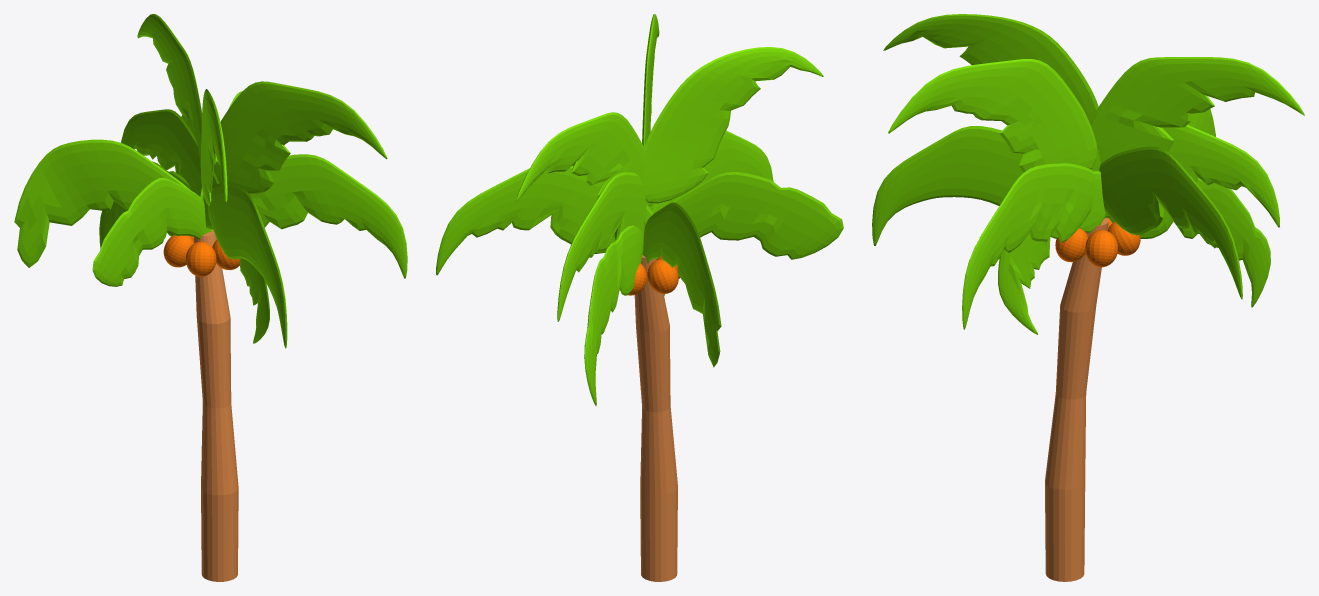
The model's file is Planmera obj.fbx.
3 renders of one model, left to right at view 1: azimuth 30°, elevation 25°; view 2: azimuth 150°, elevation 25°; view 3: azimuth 270°, elevation 25°, orthographic. The views are drawn at different scales.
Visible parts, largest first — view 1: Hojas de palma, Palo de Palma; view 2: Hojas de palma, Palo de Palma; view 3: Hojas de palma, Palo de Palma.
Part boxes in pixels (x1,y1,x2,y2): Hojas de palma: (14,14,407,348); Palo de Palma: (163,230,239,581); Hojas de palma: (436,14,843,405); Palo de Palma: (619,255,680,581); Hojas de palma: (872,14,1304,334); Palo de Palma: (1045,218,1140,581).
Bounding box in the file's own units: 8.16 × 13.34 × 9.74.
